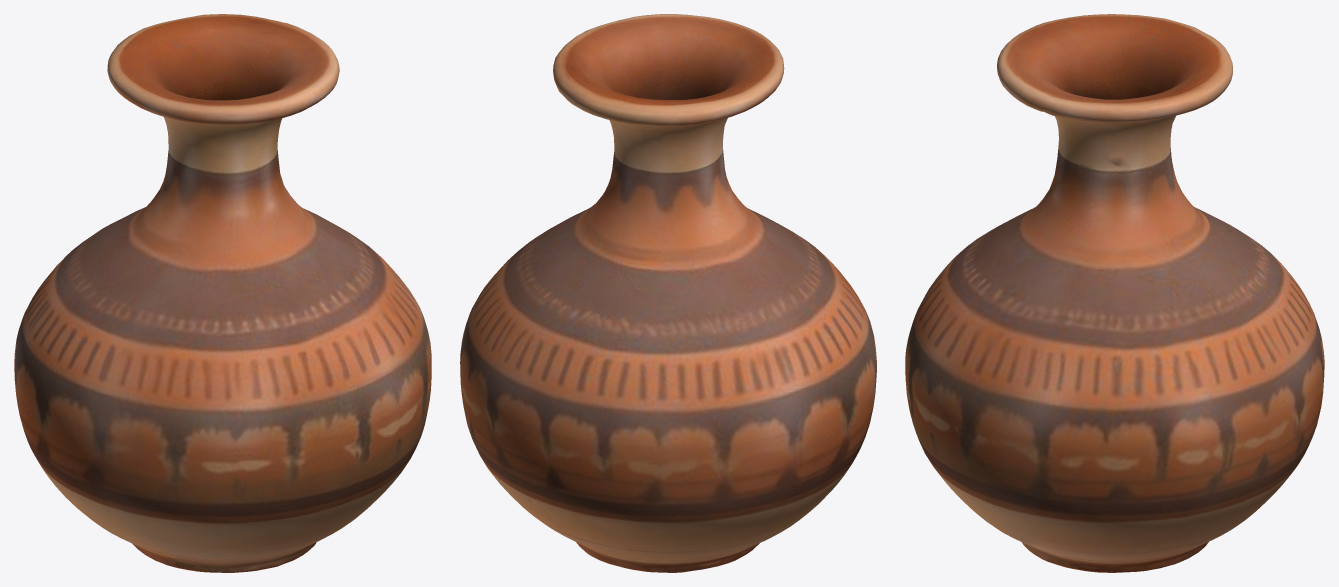
The model's file is vase.glb.
The picture shows the model from 3 angles, left to right: view 1: azimuth 30°, elevation 25°; view 2: azimuth 150°, elevation 25°; view 3: azimuth 270°, elevation 25°; orthographic projection.
Visible parts, largest first — view 1: model; view 2: model; view 3: model.
Part boxes in pixels (x1,y1,x2,y2): model: (14, 14, 431, 572); model: (460, 14, 876, 572); model: (905, 14, 1324, 572).
Size of the model in its own units: 1.6 by 2 by 1.59.
1 material, 1 textured.
